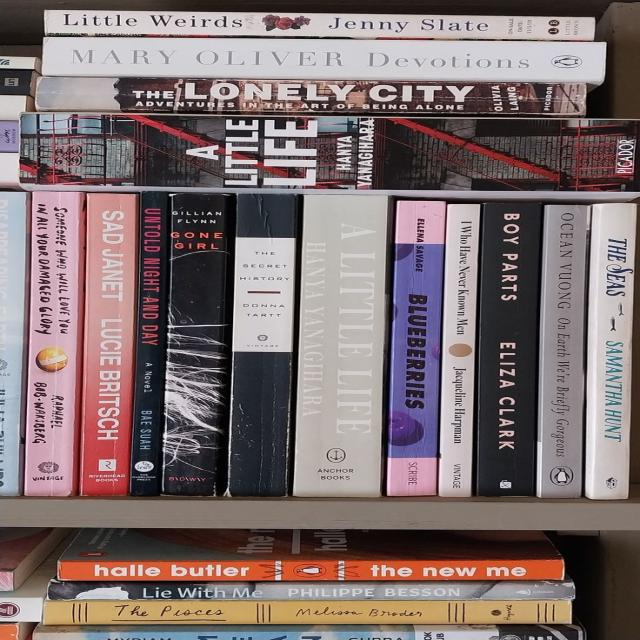book: (24, 114, 638, 190), (292, 194, 391, 497), (43, 37, 605, 84), (224, 193, 301, 497), (35, 76, 593, 116), (160, 193, 233, 496), (472, 204, 542, 496), (20, 192, 84, 497), (384, 201, 446, 496), (78, 194, 138, 496), (45, 11, 594, 41), (584, 204, 637, 499), (535, 206, 588, 498), (44, 600, 572, 623), (438, 204, 479, 497), (130, 191, 168, 496), (59, 561, 563, 580), (50, 582, 571, 599), (0, 191, 28, 496)
